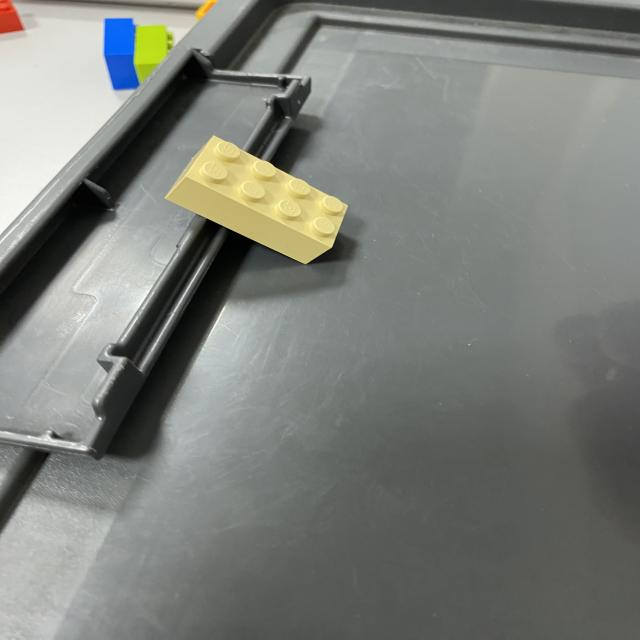C4x2x1: (166, 138, 351, 264)
